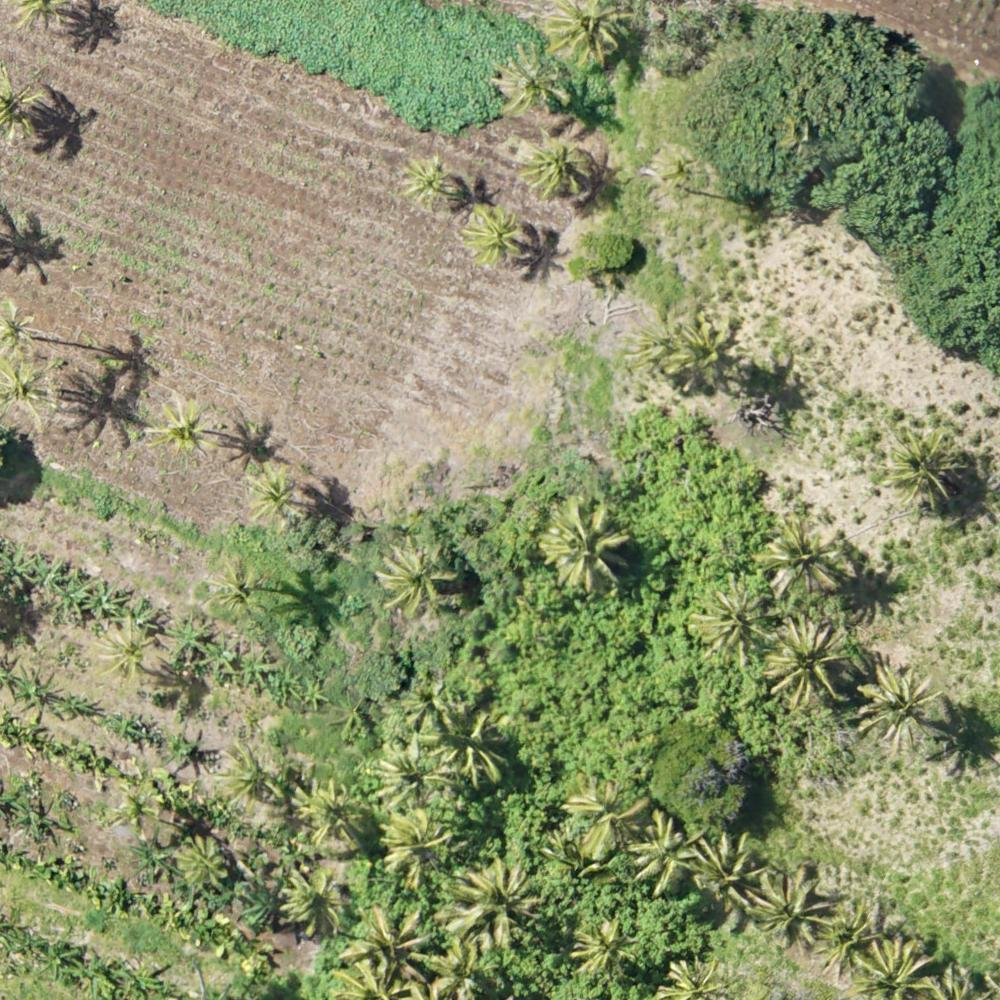Palm: (764, 617, 854, 709), (561, 772, 652, 857), (343, 901, 431, 988), (445, 862, 539, 943), (542, 500, 630, 583), (759, 518, 845, 602), (751, 868, 835, 952), (691, 828, 770, 914), (486, 43, 574, 118), (881, 425, 964, 504), (373, 544, 457, 618), (859, 665, 934, 746), (631, 807, 701, 891), (214, 741, 288, 818), (667, 318, 740, 394), (378, 809, 453, 882), (545, 2, 629, 65), (373, 744, 452, 809), (851, 936, 931, 1000), (817, 901, 885, 975), (150, 393, 219, 465), (95, 617, 163, 689), (282, 866, 350, 938), (300, 777, 365, 848), (522, 134, 592, 199), (205, 559, 270, 625), (245, 462, 309, 529), (567, 916, 634, 977), (466, 205, 532, 265), (401, 154, 464, 209), (399, 682, 463, 735), (174, 835, 230, 890)
